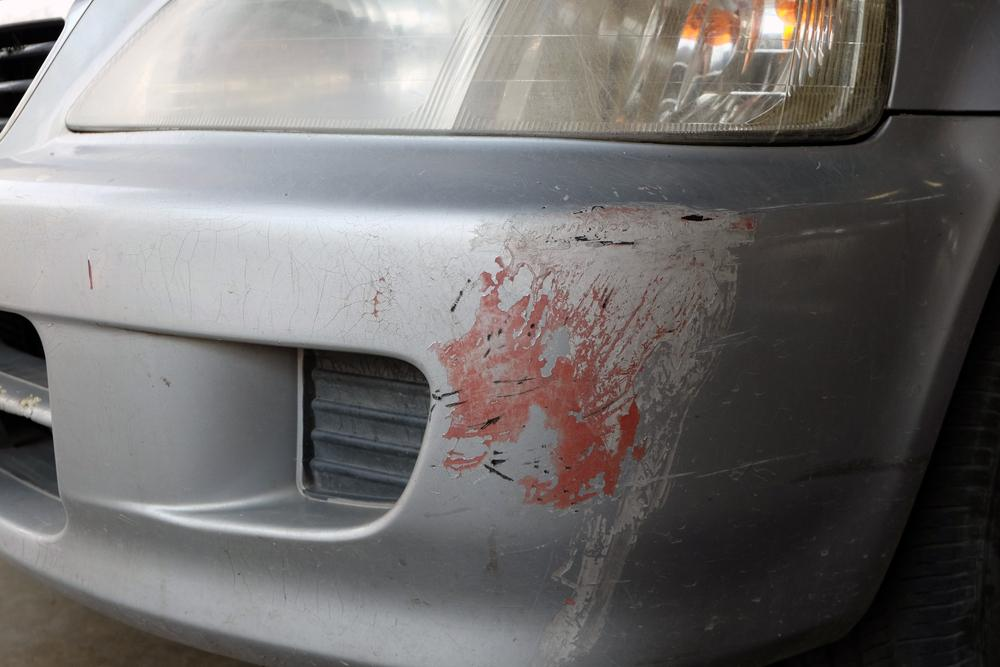scratch: (436, 194, 766, 667)
